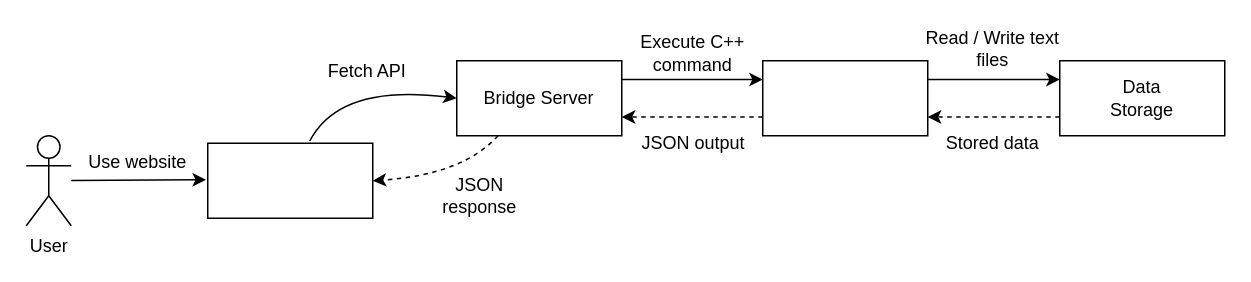
Some shapes in this 1251 by 282 pixel diagram are drawn without their labels. Each missing label, with the centre of its shape:
Backend Processing: point 844,97
Website Interface: point 289,180
